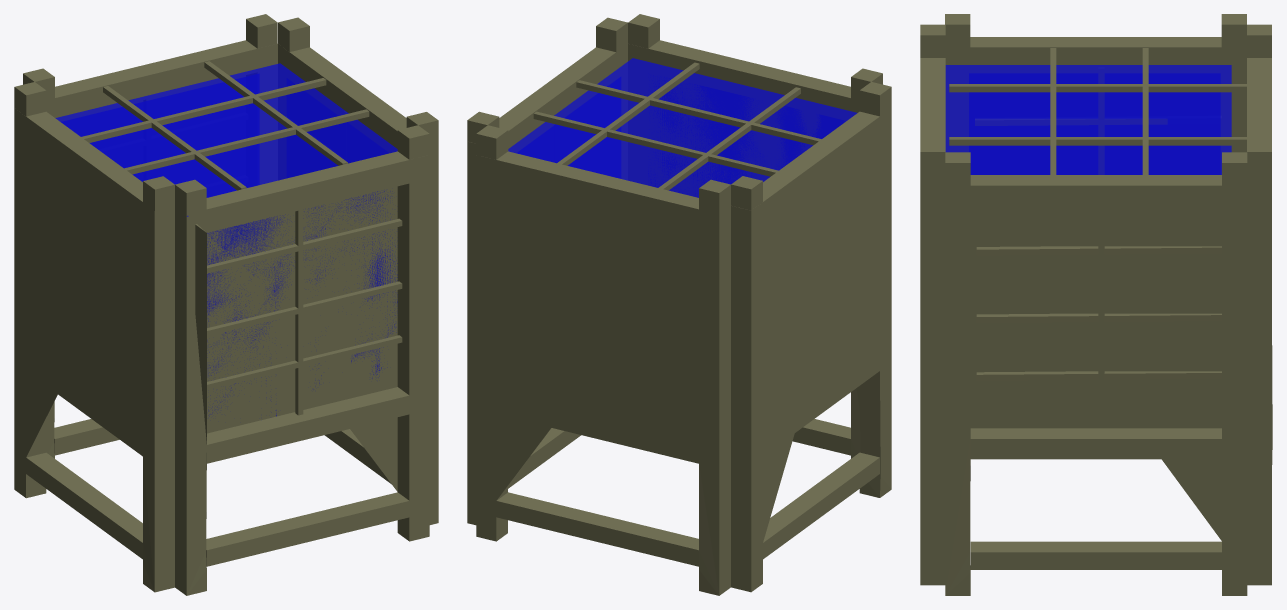
Rendered from woodlantern_v2_unity_asset.fbx.
The picture shows the model from 3 angles, left to right: view 1: azimuth 30°, elevation 25°; view 2: azimuth 150°, elevation 25°; view 3: azimuth 270°, elevation 25°; orthographic projection. The views are drawn at different scales.
Visible parts, largest first — view 1: FrameNorth, FrameEast, TopScreenPaper, FrameSouth, FrameWest, pasted__ScreenPaper1, ScreenPaperN, ScreenPaperW, TopCrossFrame1, TopCrossFrame2, MiddleDividerN, Cross1DividerN (+4 smaller); view 2: FrameSouth, FrameEast, TopScreenPaper, FrameNorth, FrameWest, ScreenPaperW, ScreenPaperN, TopCrossFrame1, TopCrossFrame2, TopCrossFrame4, TopCrossFrame3; view 3: FrameWest, TopScreenPaper, ScreenPaperE, FrameEast, FrameNorth, FrameSouth, TopCrossFrame3, TopCrossFrame4, Cross2DividerW, Cross3DividerW, Cross1DividerW, MiddleDividerW (+4 smaller).
Part boxes in pixels (box(x1,y1,x2,y2)): FrameNorth: box(175, 125, 429, 595); FrameEast: box(14, 82, 174, 592); TopScreenPaper: box(55, 63, 397, 216); FrameSouth: box(23, 14, 277, 458); FrameWest: box(278, 17, 438, 524); pasted__ScreenPaper1: box(61, 74, 258, 197); ScreenPaperN: box(207, 191, 397, 416); ScreenPaperW: box(287, 79, 387, 177); TopCrossFrame1: box(124, 109, 369, 174); TopCrossFrame2: box(81, 78, 326, 142); MiddleDividerN: box(295, 209, 303, 415); Cross1DividerN: box(196, 218, 402, 274); FrameSouth: box(476, 125, 730, 595); FrameEast: box(731, 82, 891, 592); TopScreenPaper: box(508, 58, 857, 197); FrameNorth: box(628, 14, 882, 458); FrameWest: box(467, 17, 627, 525); ScreenPaperW: box(518, 77, 620, 178); ScreenPaperN: box(655, 86, 844, 186); TopCrossFrame1: box(576, 80, 821, 145); TopCrossFrame2: box(533, 111, 778, 176); TopCrossFrame4: box(658, 87, 800, 190); TopCrossFrame3: box(557, 62, 699, 165); FrameWest: box(945, 152, 1247, 595); TopScreenPaper: box(945, 65, 1231, 174); ScreenPaperE: box(969, 74, 1219, 174); FrameEast: box(945, 14, 1246, 174); FrameNorth: box(920, 24, 945, 585); FrameSouth: box(1247, 24, 1272, 585); TopCrossFrame3: box(949, 137, 1246, 145); TopCrossFrame4: box(949, 84, 1246, 92); Cross2DividerW: box(976, 313, 1221, 322); Cross3DividerW: box(976, 371, 1221, 380); Cross1DividerW: box(976, 246, 1221, 255); MiddleDividerW: box(1098, 211, 1104, 425).
Bounding box in the file's own units: 28.06 × 38.01 × 28.01.
